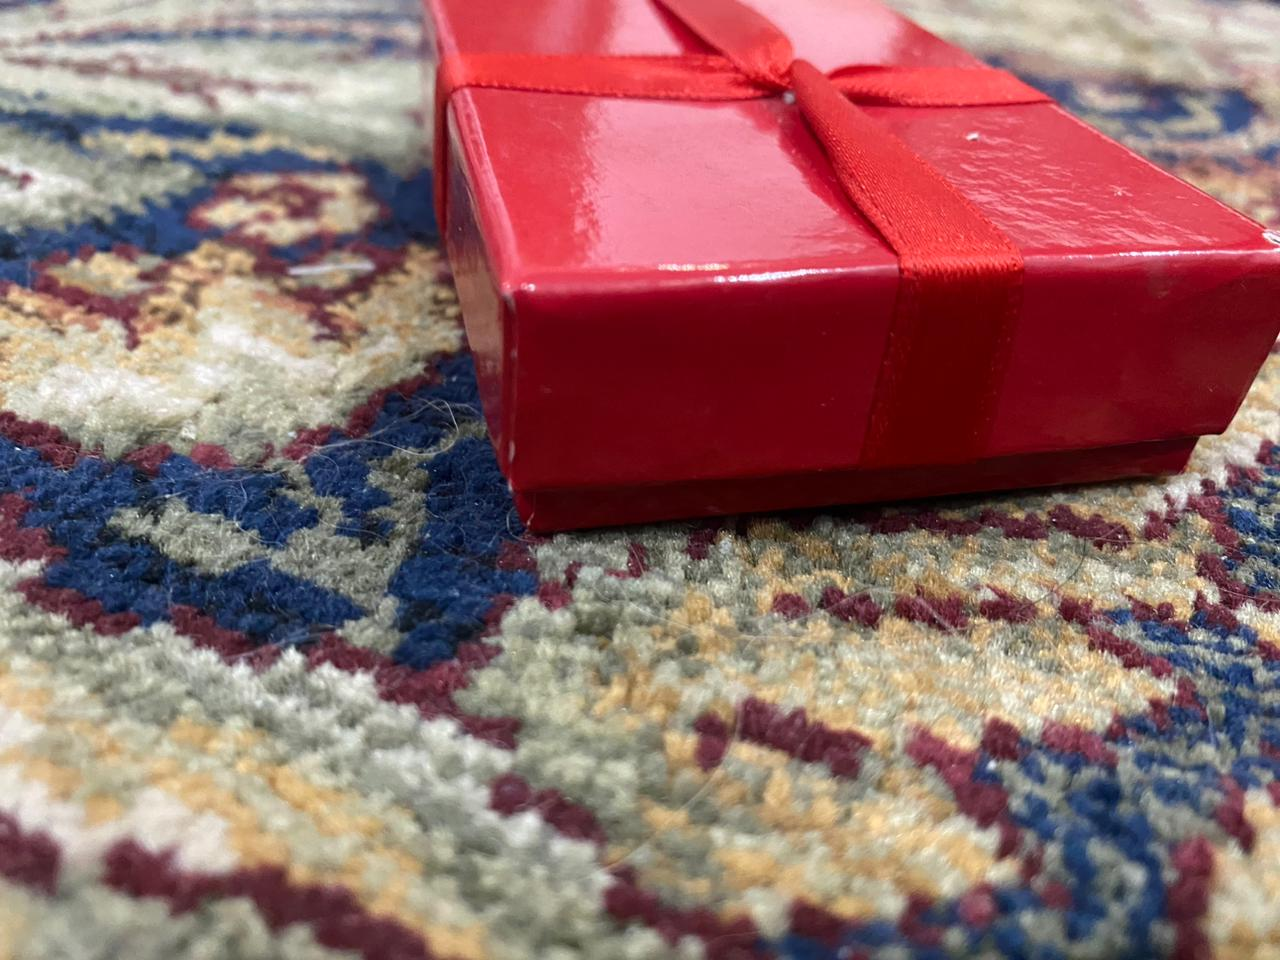Black Box: (398, 1, 1280, 529)
